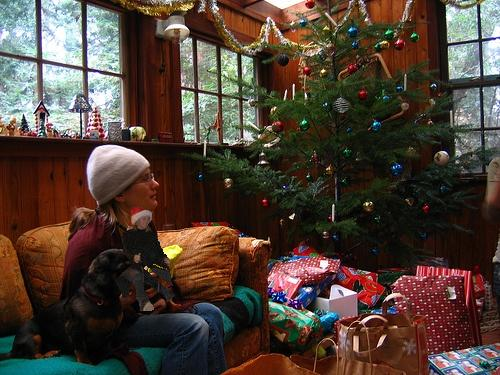tampered: (116, 207, 175, 311)
